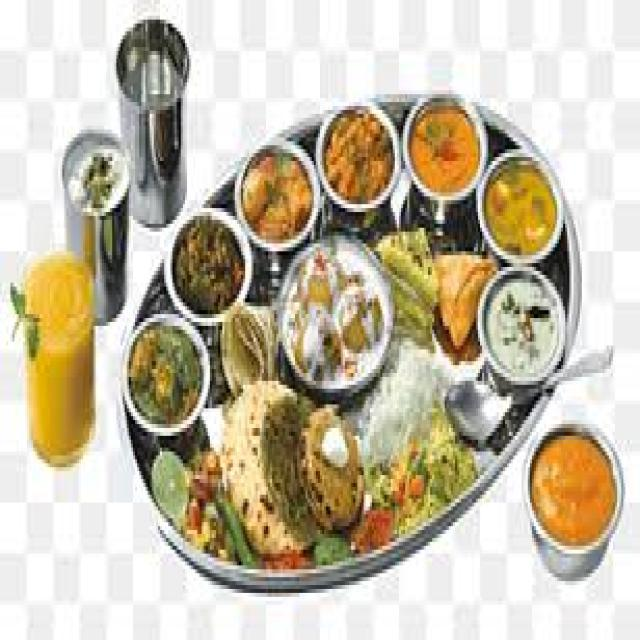curd: (482, 265, 571, 387)
dal: (10, 258, 97, 448), (479, 158, 565, 259)
papad: (222, 370, 344, 569)
raita: (481, 271, 570, 382)
sambar-rasam: (524, 419, 619, 550)
sweet: (486, 267, 571, 386)
veg-fry: (170, 205, 251, 326), (404, 92, 483, 214), (318, 99, 397, 218), (241, 142, 315, 251)
